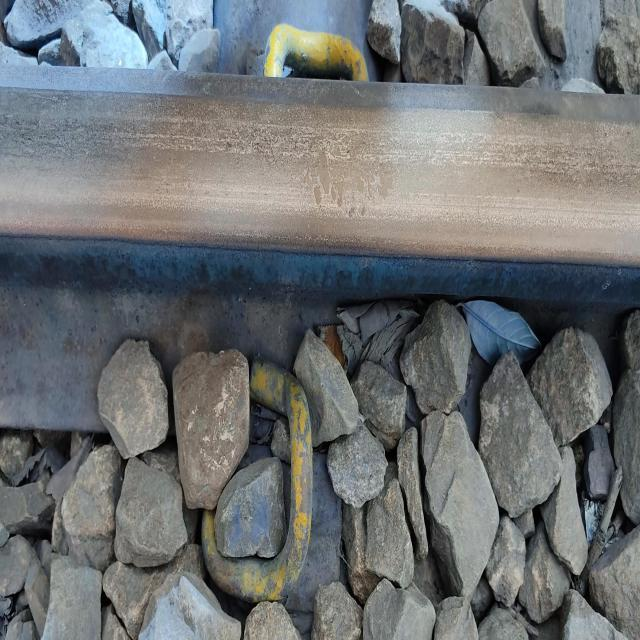Good Fasteners: (185, 313, 340, 613), (263, 24, 368, 81)
